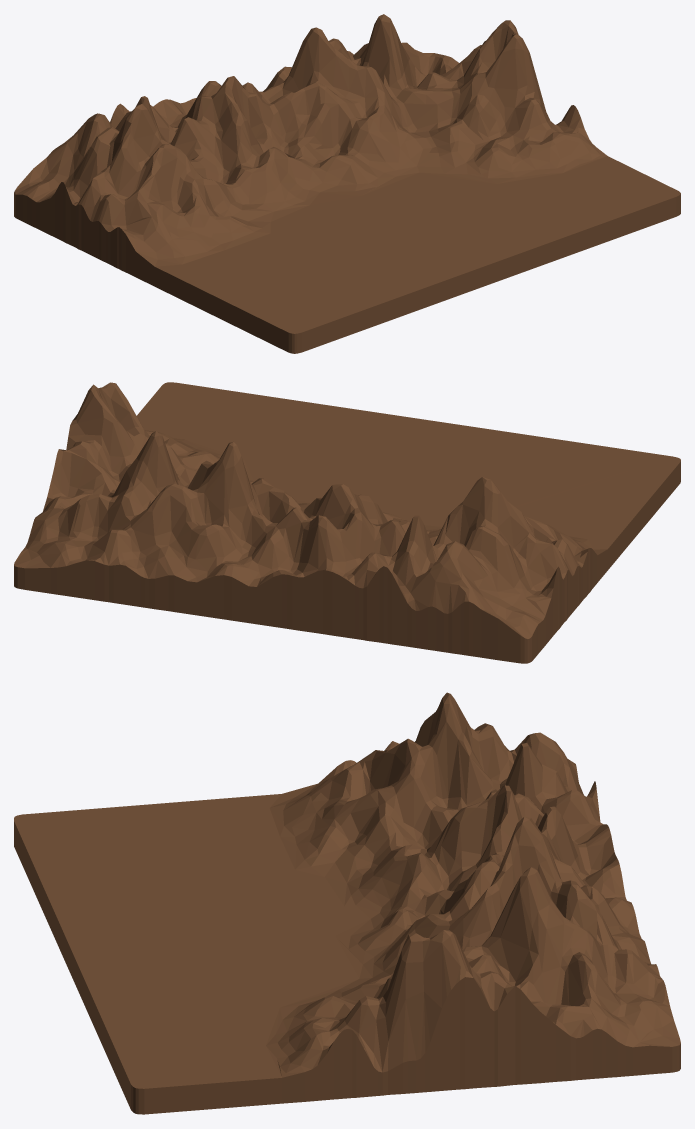
File: environment1.fbx
3 renders of one model, top to bottom at view 1: azimuth 30°, elevation 25°; view 2: azimuth 150°, elevation 25°; view 3: azimuth 270°, elevation 25°, orthographic. The views are drawn at different scales.
Visible parts, largest first — view 1: Montañas.002; view 2: Montañas.002; view 3: Montañas.002.
Boxes of the visible parts, x1,y1,x2,y2 form: Montañas.002: (14,14,680,353); Montañas.002: (14,382,680,663); Montañas.002: (14,692,680,1114).
Size of the model in its own units: 4205 by 1014 by 3748.
